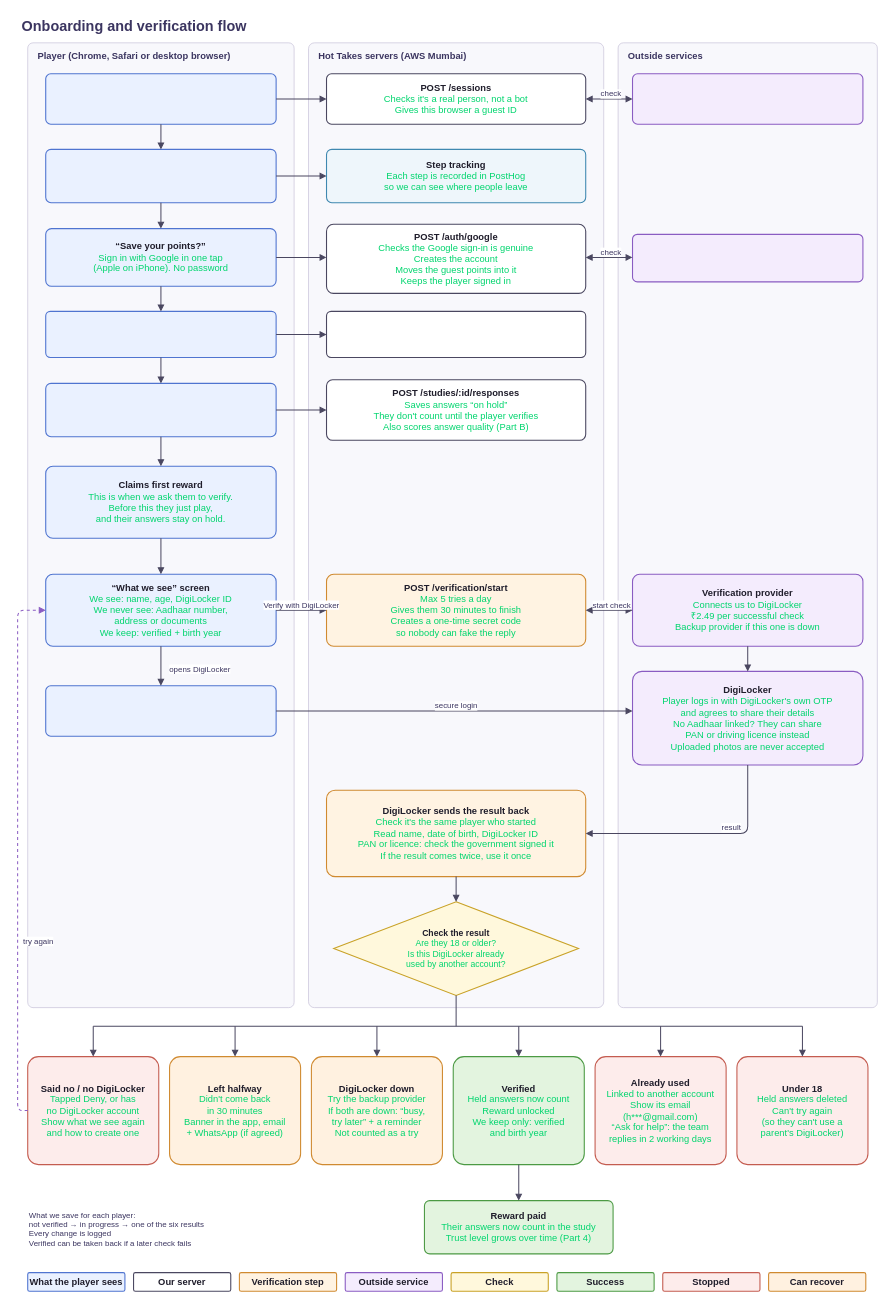
The diagram is 891 pixels wide and 1304 high, and some of its shapes have lost their labels. Here are the shapes that lost their labels. From the top down, the centre of each, then its label:
At point (160, 98): "Opens a Hot Takes link No app to install, no form to fill".
At point (747, 98): "Cloudflare Turnstile Bot check the player doesn't see".
At point (160, 176): "Plays the sample game About 2 minutes of snack cards Points shown, not saved yet".
At point (747, 257): "Google sign-in Confirms who signed in".
At point (160, 334): "Age and city Player types their age (we check it later)".
At point (456, 334): "PATCH /me/profile Saves age and city".
At point (160, 410): "Plays first real study Can keep playing more studies".
At point (160, 710): "Goes to DigiLocker Player sees the real government page".
